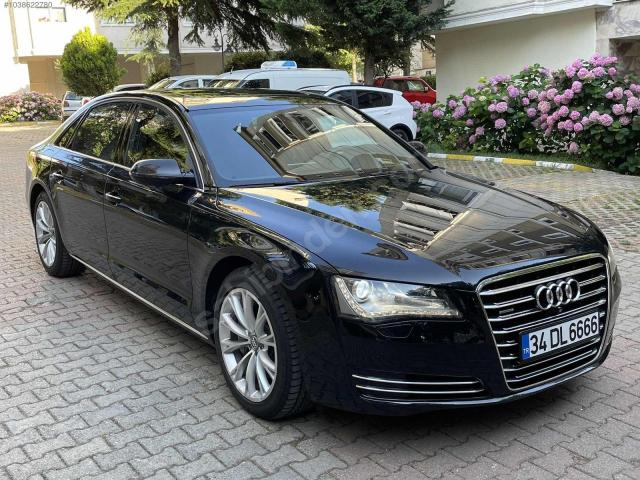plaka: (521, 312, 600, 360)
